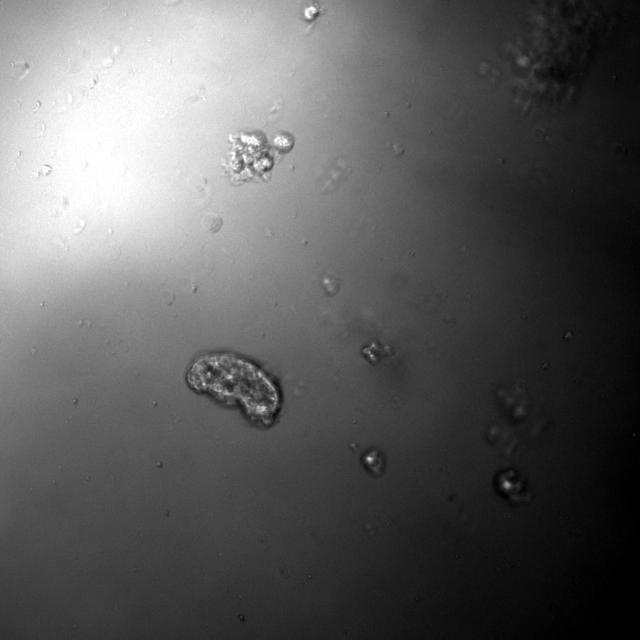organoid: (502, 0, 616, 113), (186, 351, 282, 429), (483, 383, 547, 455), (223, 130, 294, 183), (492, 467, 532, 506), (361, 339, 394, 365), (360, 446, 386, 477), (303, 1, 320, 22)
